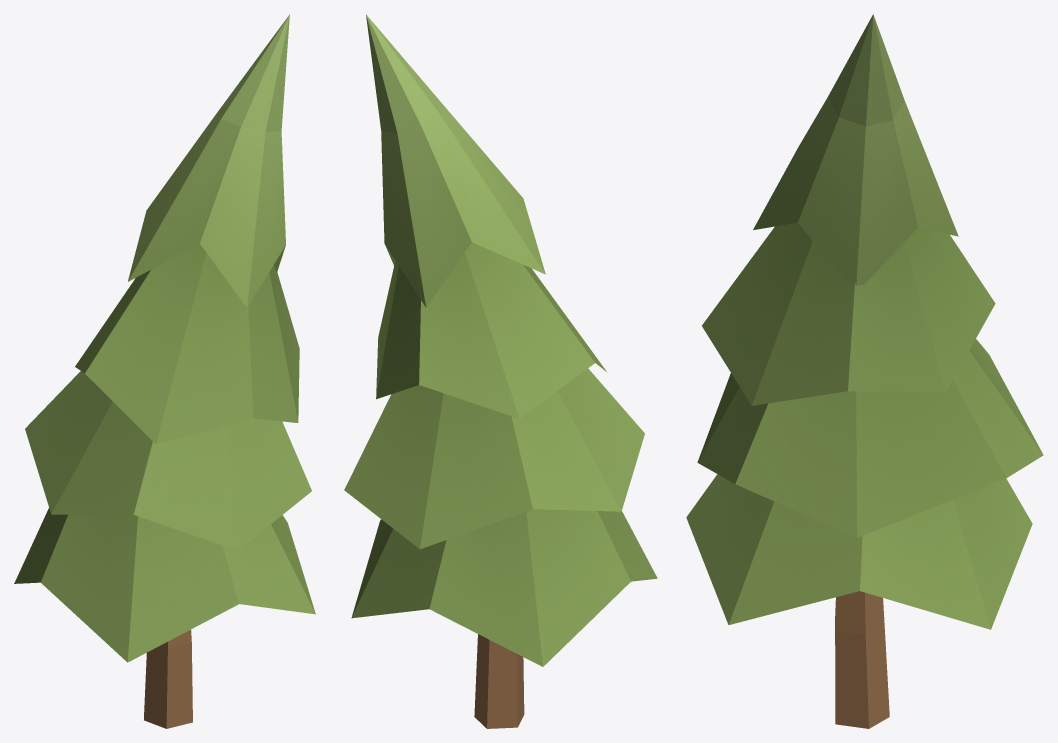
File: Pine_Tree_m_05_LOD.fbx
The picture shows the model from 3 angles, left to right: view 1: azimuth 30°, elevation 25°; view 2: azimuth 150°, elevation 25°; view 3: azimuth 270°, elevation 25°; orthographic projection. The views are drawn at different scales.
Visible parts, largest first — view 1: Pine_Tree_m_05_LOD0; view 2: Pine_Tree_m_05_LOD0; view 3: Pine_Tree_m_05_LOD0.
Part boxes in pixels (bbox=[...]): Pine_Tree_m_05_LOD0: bbox=[14, 14, 315, 728]; Pine_Tree_m_05_LOD0: bbox=[344, 14, 657, 728]; Pine_Tree_m_05_LOD0: bbox=[686, 14, 1043, 728].
Size of what is drawn, in the model's own units: 423 by 1059 by 443.
